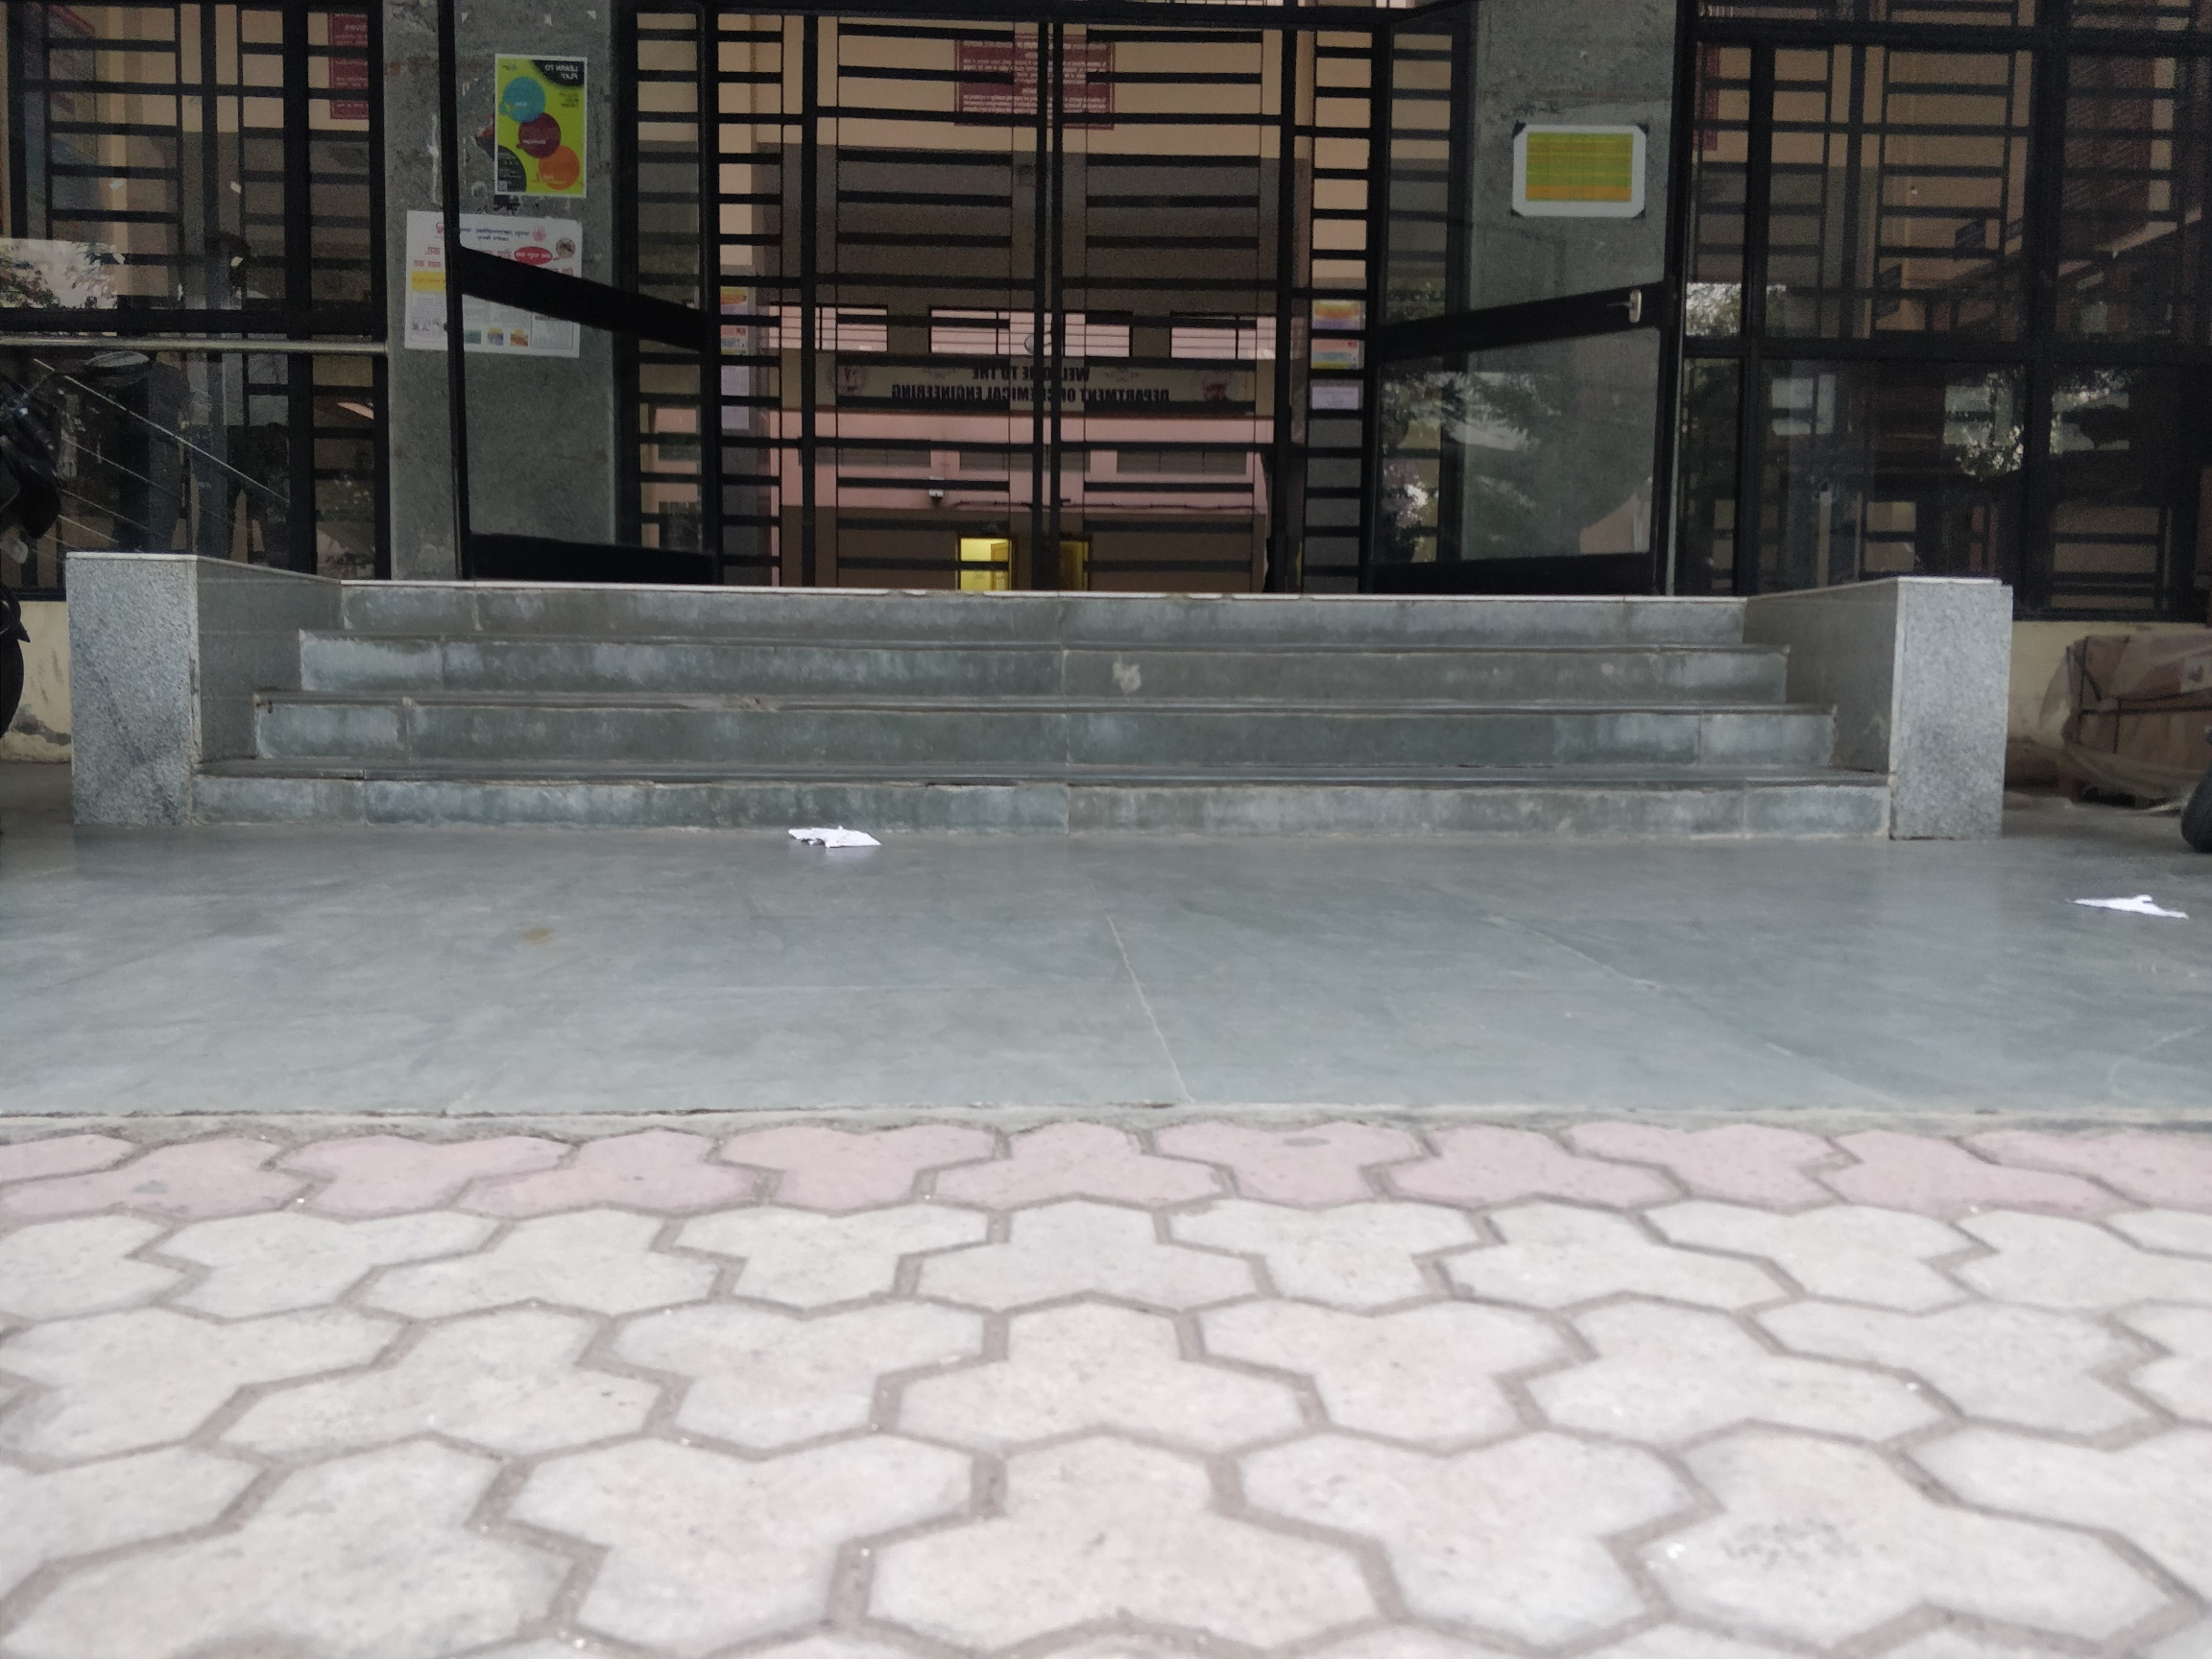stairs_up: (204, 582, 1895, 836)
